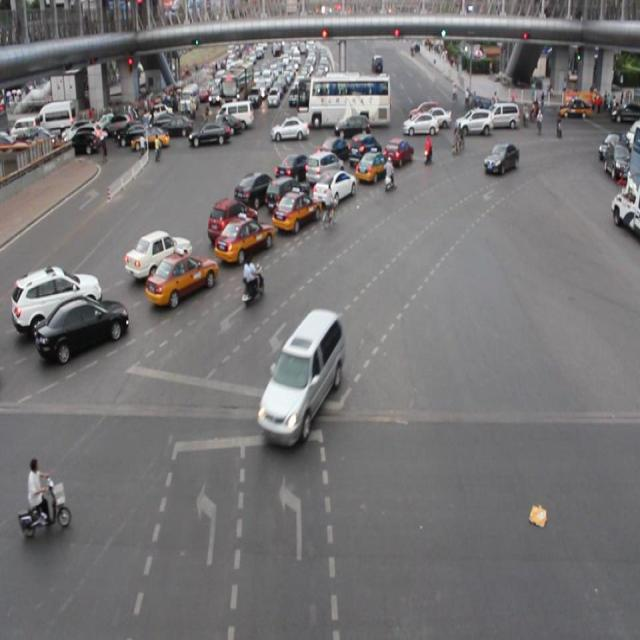car: (258, 311, 342, 434), (12, 264, 102, 327), (38, 294, 126, 352), (144, 254, 215, 298), (125, 232, 191, 276), (216, 216, 272, 260), (206, 197, 257, 240), (273, 190, 318, 230), (311, 171, 355, 207), (234, 172, 274, 206), (273, 152, 313, 186), (306, 149, 342, 185), (266, 174, 303, 209), (353, 148, 388, 184), (483, 142, 518, 174), (346, 135, 380, 167), (380, 136, 411, 168), (318, 137, 351, 165)
